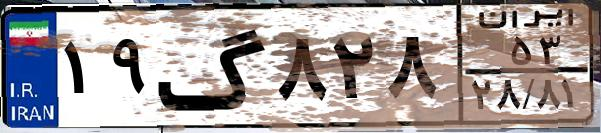1: (57, 26, 110, 100), (560, 70, 590, 125)
2: (330, 28, 385, 110), (470, 70, 495, 125)
3: (537, 27, 568, 80)
5: (508, 27, 537, 80)
8: (270, 28, 330, 110), (385, 28, 445, 110), (495, 70, 520, 125), (535, 70, 560, 125)
9: (110, 28, 156, 98)
گ: (156, 12, 270, 120)
